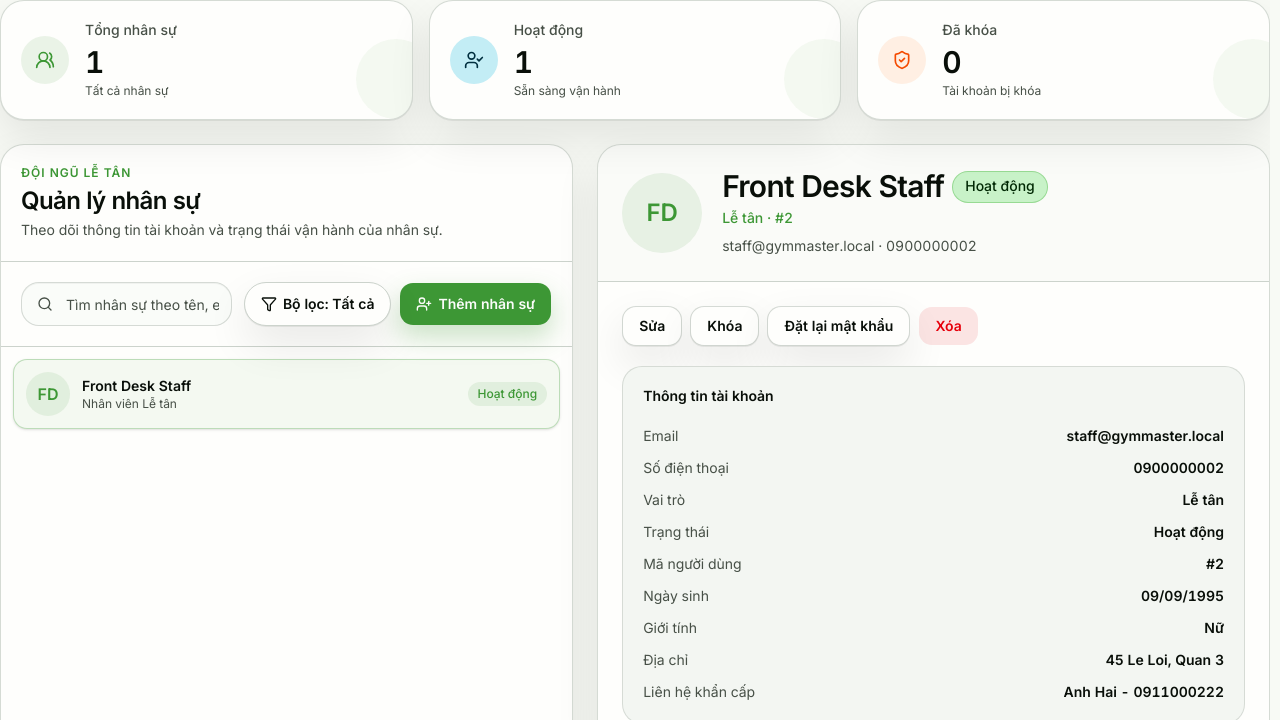
ManagementWorkspace › renders the staff template with access control and create feedback
Expected: the text "Front Desk Staff" is shown, top-left (82, 377), bottom-right (191, 394)
Click the button with test id "user-create-open" at (476, 304), box top-left (400, 282), bottom-right (552, 326)
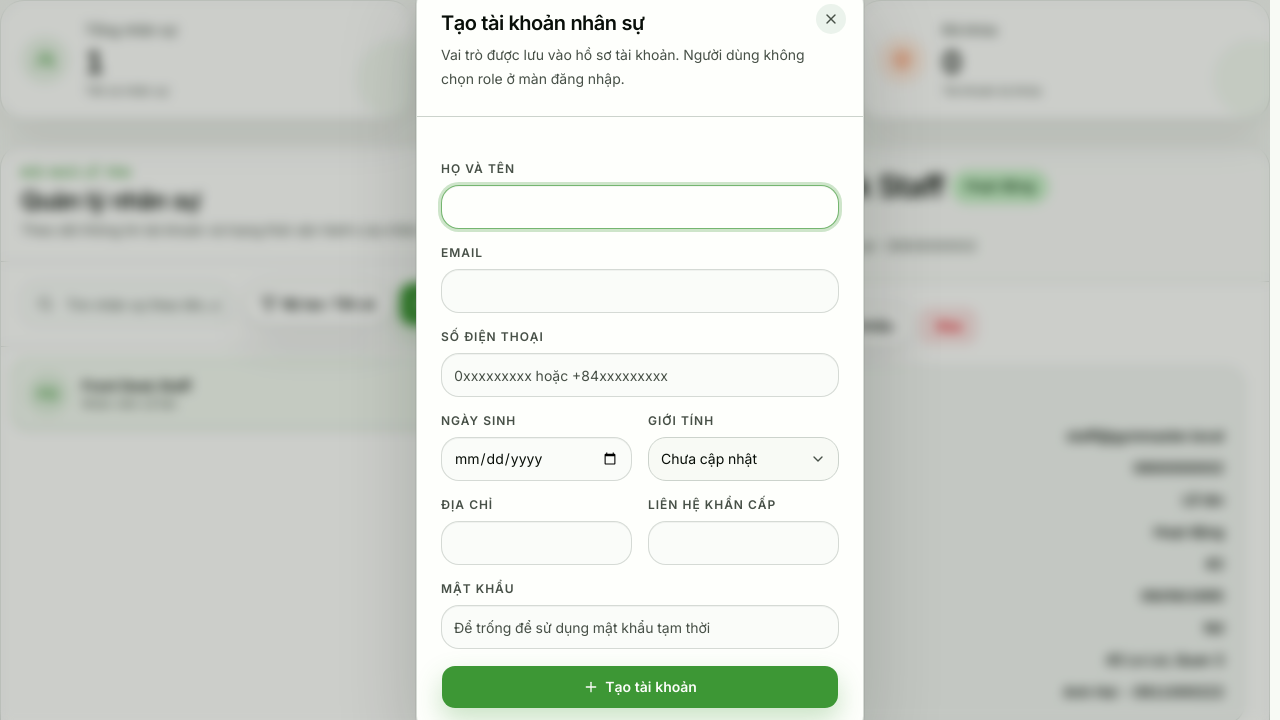
Type "Template Staff Component" into the field with test id "user-create-name" at (640, 207), box top-left (441, 185), bottom-right (839, 229)
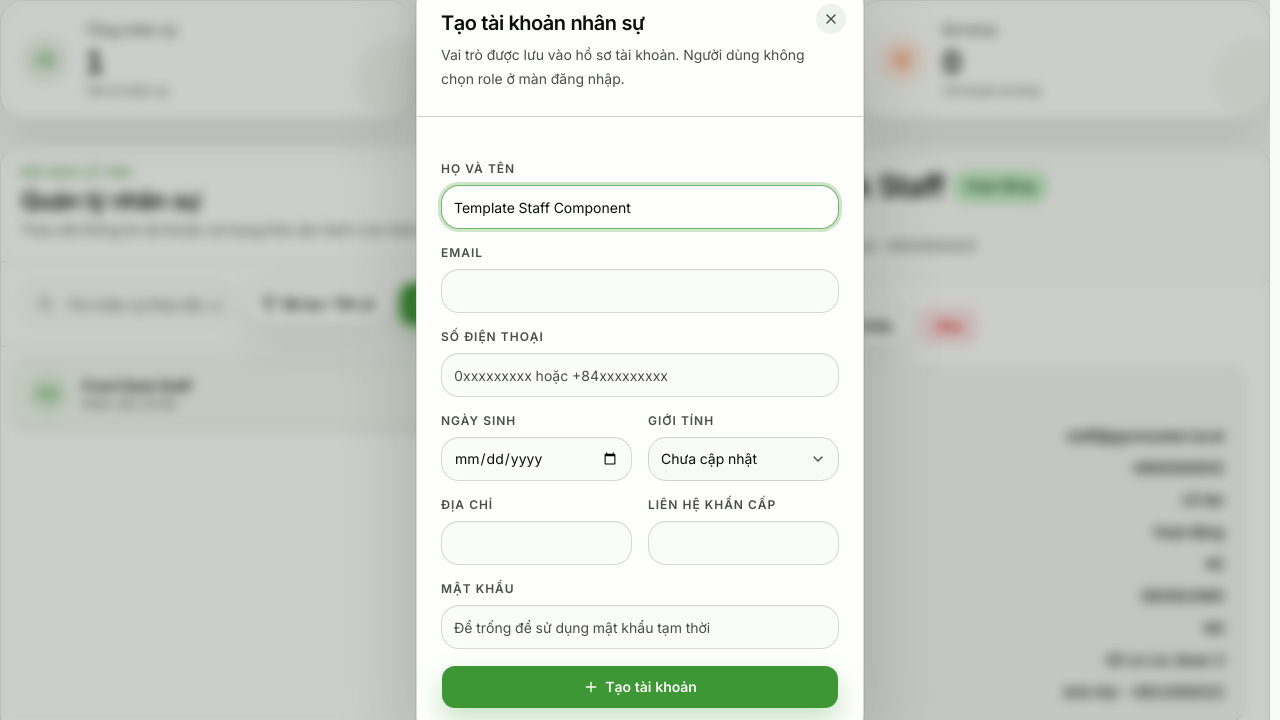
Type "template-staff-component@gymmaster.local" into the field with test id "user-create-email" at (640, 291), box top-left (441, 269), bottom-right (839, 313)
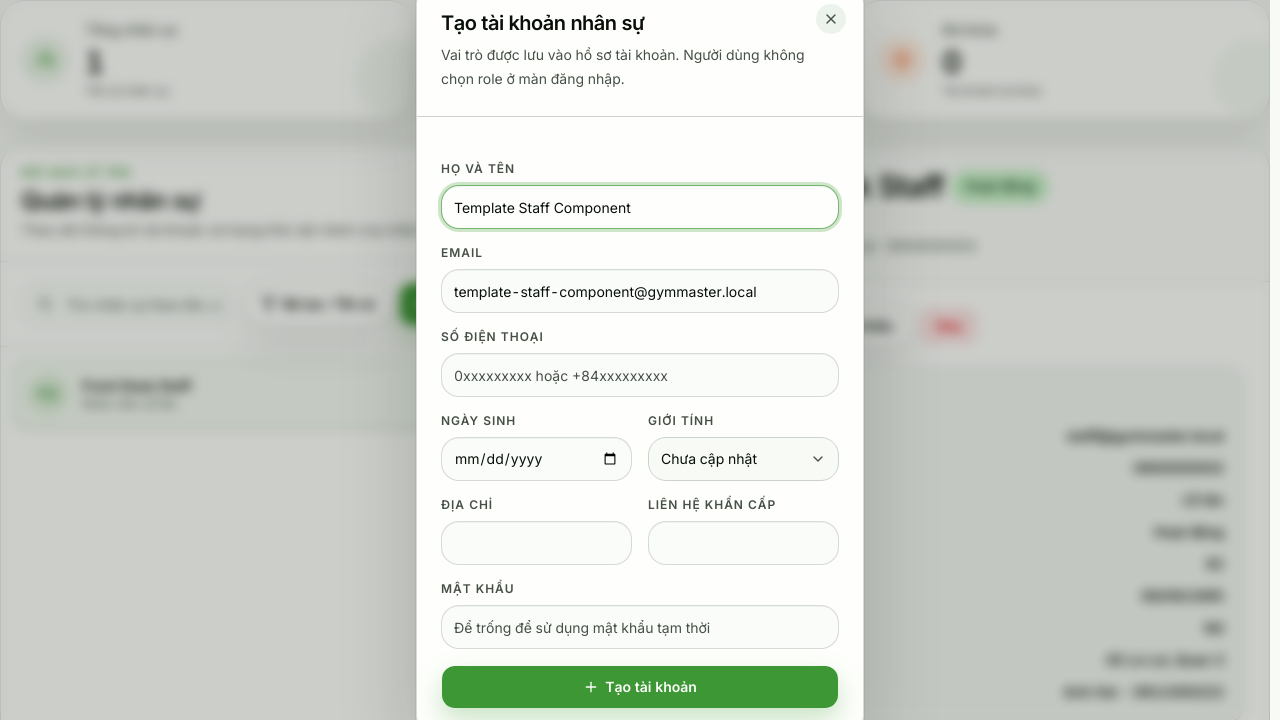
Type "0900000991" into the field with test id "user-create-phone" at (640, 375), box top-left (441, 353), bottom-right (839, 397)
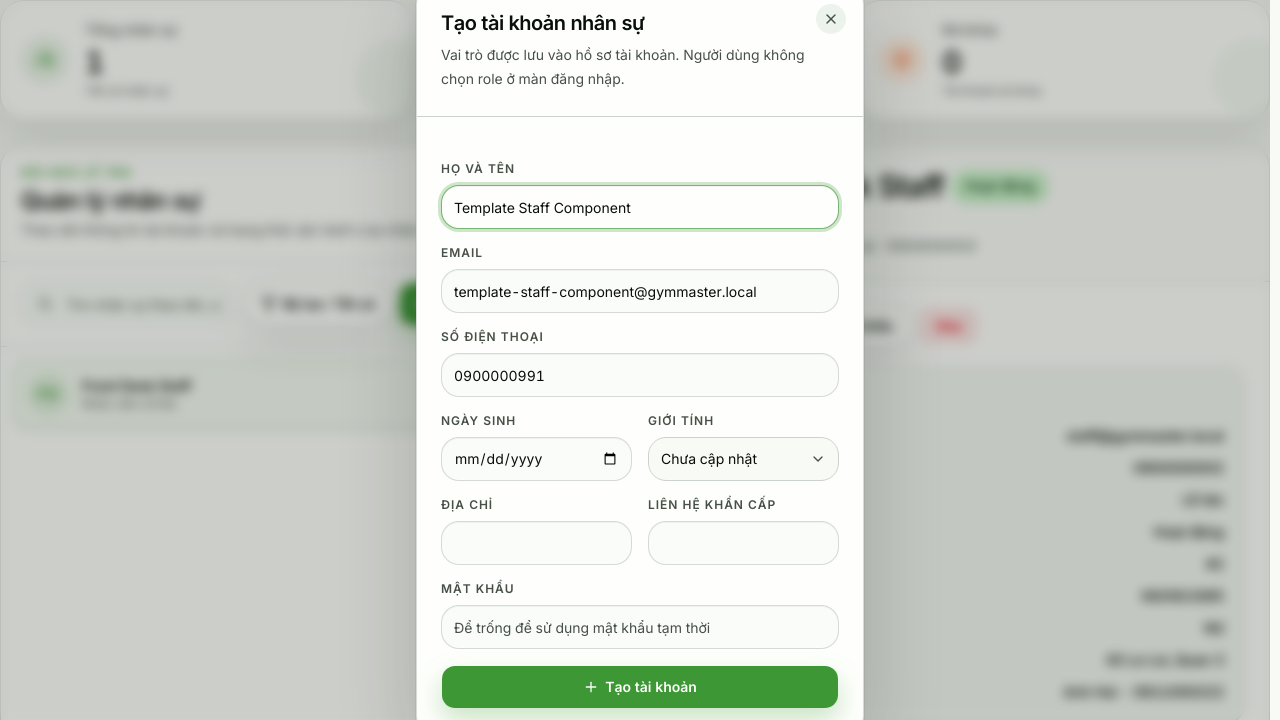
Click the button with test id "user-create-submit" at (640, 687), box top-left (441, 665), bottom-right (839, 709)
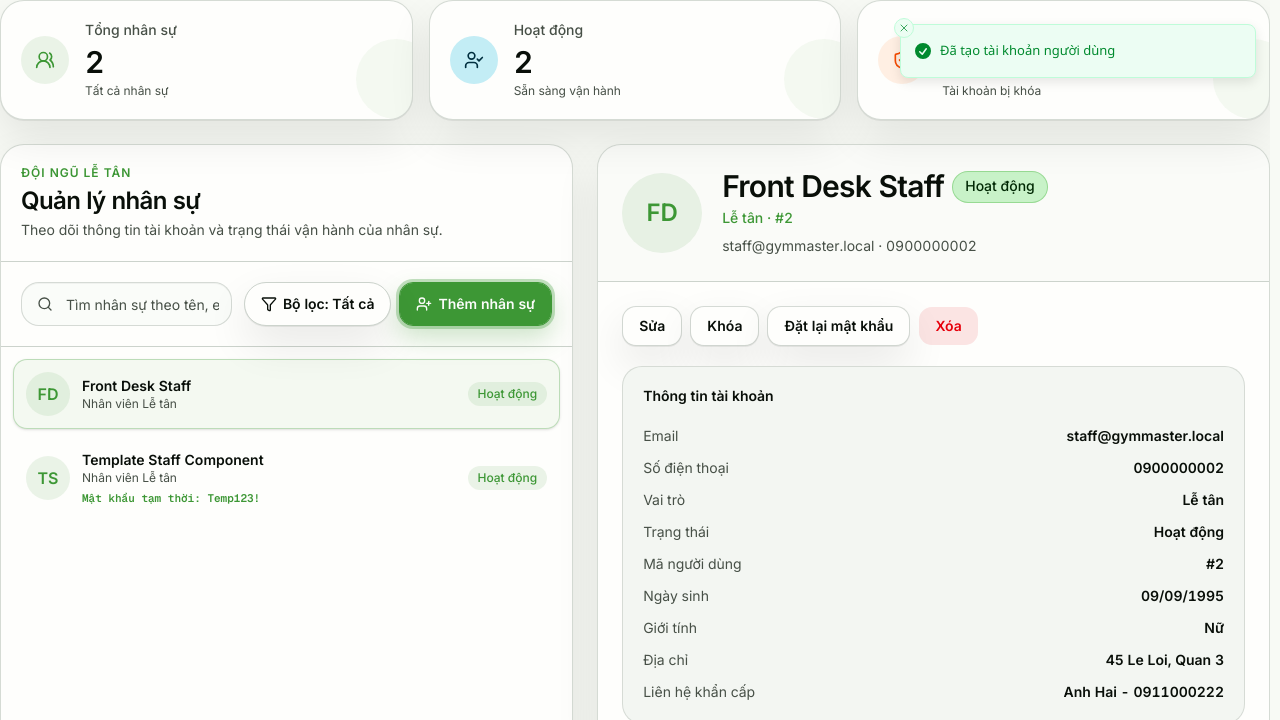
Result: the text "Template Staff Component" is shown at top-left (82, 451), bottom-right (264, 468)
Result: the text "Mật khẩu tạm thời: Temp123!" is shown at top-left (82, 491), bottom-right (260, 505)
